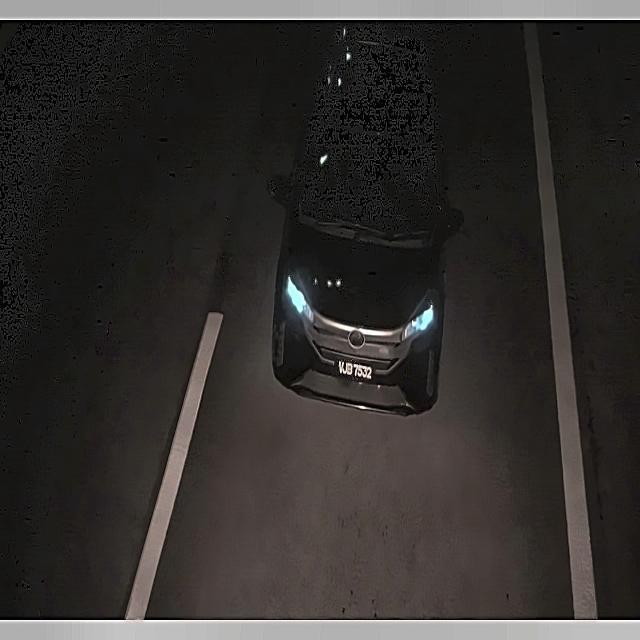car: (332, 352, 380, 389)
